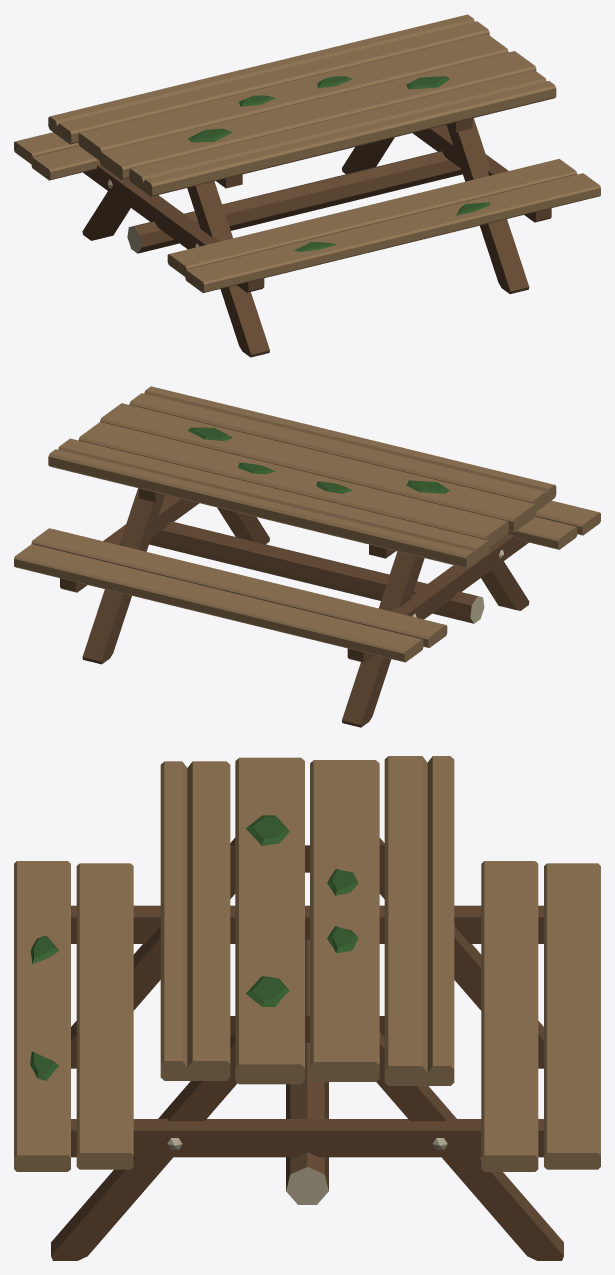
File: campsite-picnic-table-361d51.glb
3 views of the same model, one above another, from view 1: azimuth 30°, elevation 25°; view 2: azimuth 150°, elevation 25°; view 3: azimuth 270°, elevation 25° (orthographic). The views are drawn at different scales.
Parts seen in each view (by area): view 1: campsite-picnic-table-mesh; view 2: campsite-picnic-table-mesh; view 3: campsite-picnic-table-mesh.
Part boxes in pixels (left/top/right/bottom): campsite-picnic-table-mesh: left=14, top=14, right=600, bottom=357; campsite-picnic-table-mesh: left=14, top=386, right=600, bottom=727; campsite-picnic-table-mesh: left=14, top=756, right=600, bottom=1260.
Bounding box in the file's own units: 2 × 0.75 × 1.6.
